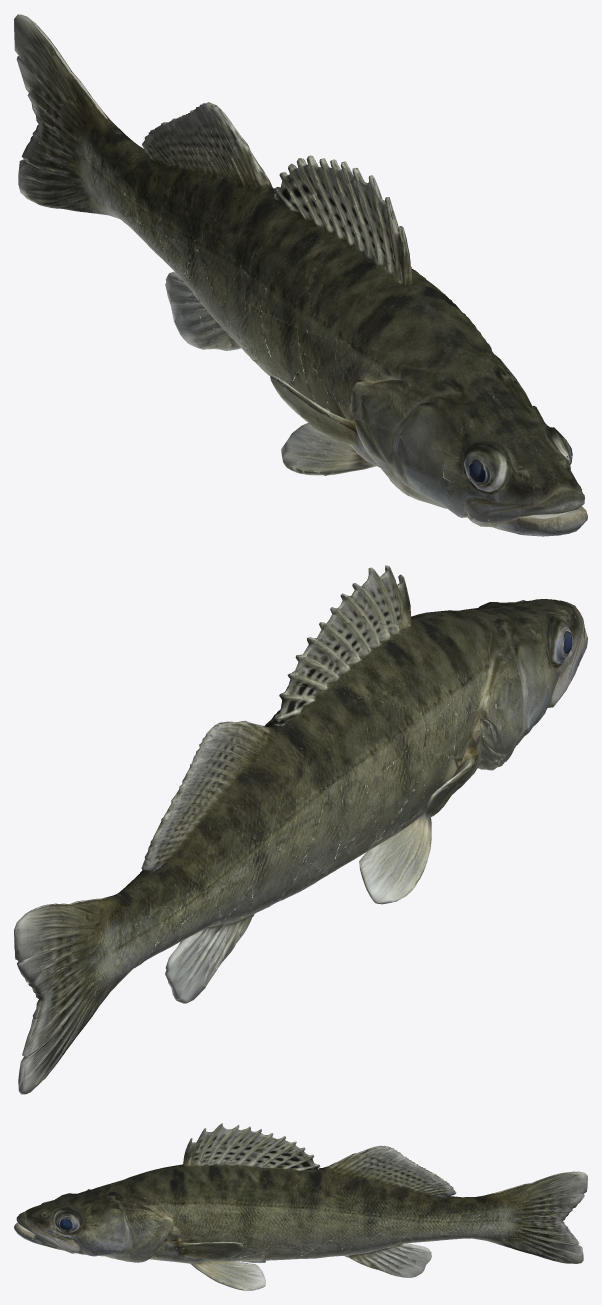
File: sandacz.glb
The picture shows the model from 3 angles, top to bottom: view 1: azimuth 30°, elevation 25°; view 2: azimuth 150°, elevation 25°; view 3: azimuth 270°, elevation 25°; orthographic projection. The views are drawn at different scales.
Parts seen in each view (by area): view 1: Mesh_0; view 2: Mesh_0; view 3: Mesh_0.
Part boxes in pixels (x1,y1,x2,y2): Mesh_0: [14, 14, 587, 536]; Mesh_0: [14, 565, 587, 1094]; Mesh_0: [14, 1123, 587, 1290].
Size of the model in its own units: 0.3294 by 0.5661 by 1.9.
1 material, 1 textured.
